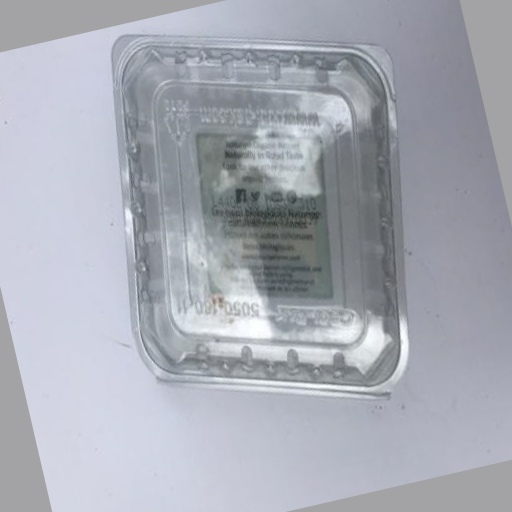Plastic_4: (112, 30, 412, 400)
